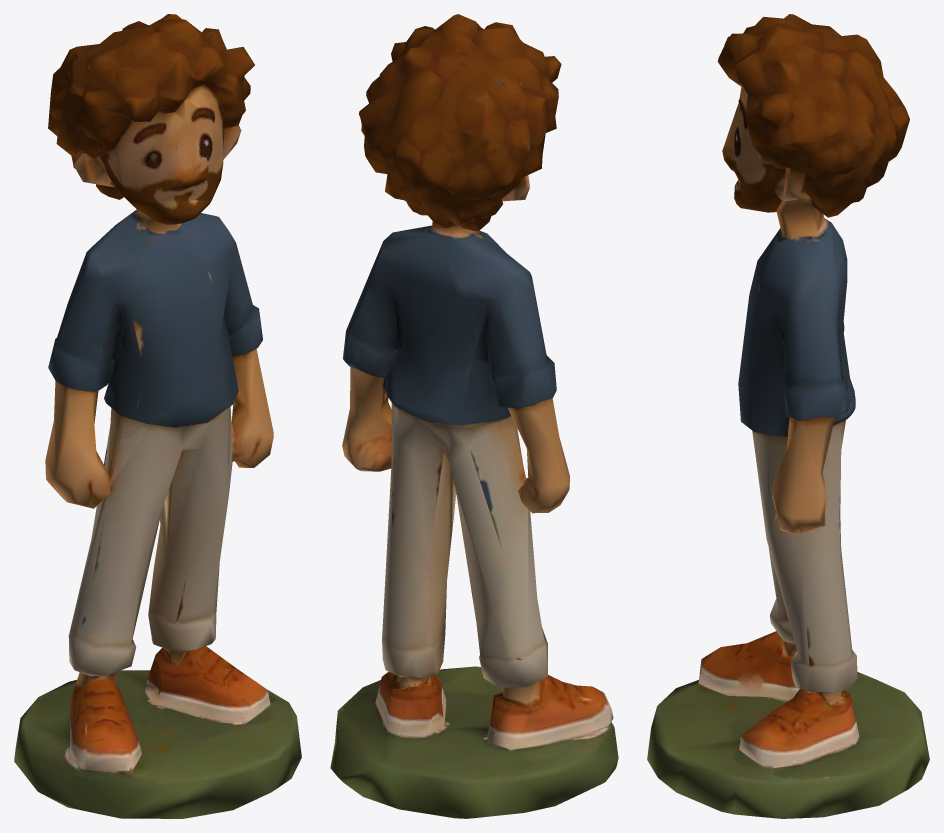
The model's file is marker-lorenzo.lod.glb.
3 views of the same model, side by side, from view 1: azimuth 30°, elevation 25°; view 2: azimuth 150°, elevation 25°; view 3: azimuth 270°, elevation 25° (orthographic).
Visible parts, largest first — view 1: textured_mesh.obj; view 2: textured_mesh.obj; view 3: textured_mesh.obj.
Boxes of the visible parts, left/top/right/bottom form: textured_mesh.obj: left=14, top=14, right=301, bottom=818; textured_mesh.obj: left=330, top=14, right=618, bottom=818; textured_mesh.obj: left=647, top=14, right=929, bottom=818.
Size of the model in its own units: 0.3559 by 0.998 by 0.346.
Materials: 1 (1 with a texture image).
